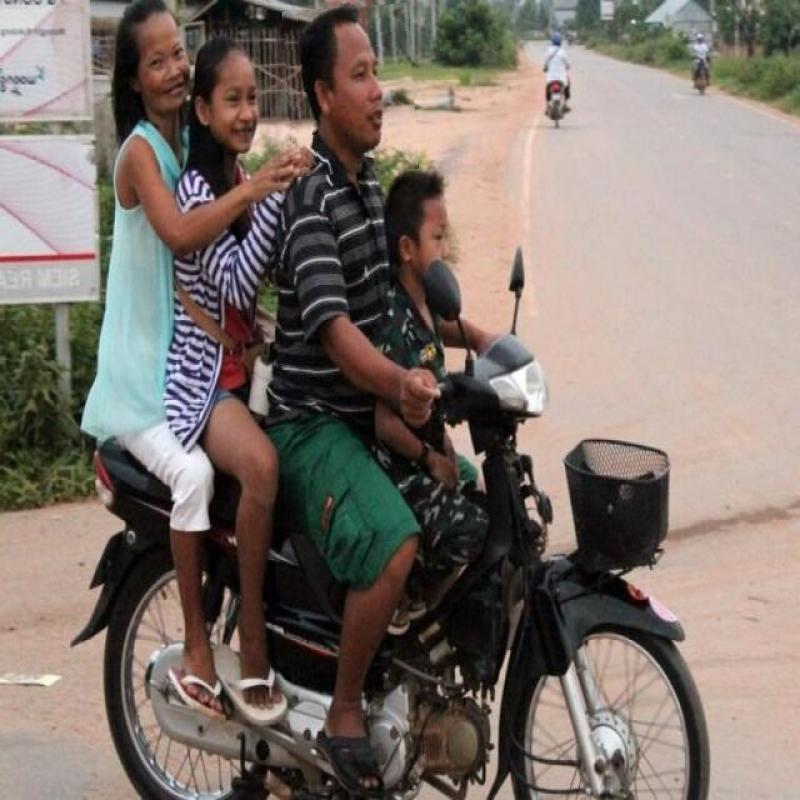nohelmet: (285, 6, 416, 176)
